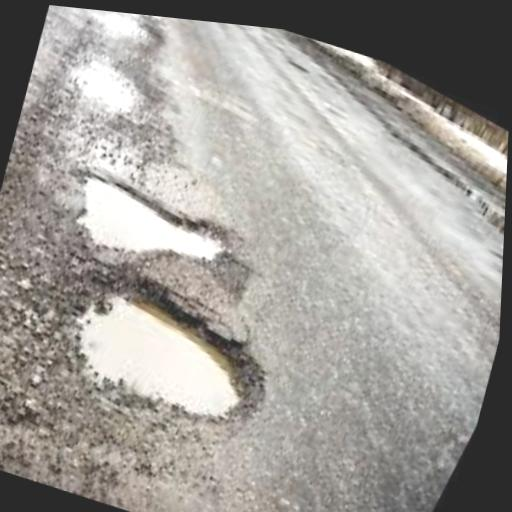pothole: (76, 293, 243, 421), (78, 177, 222, 265)
